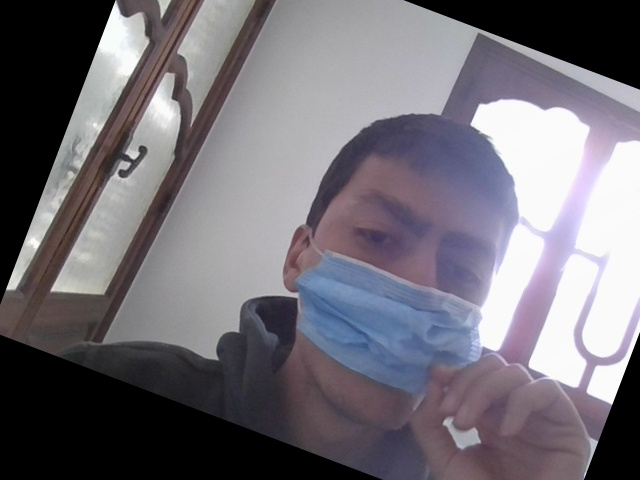mask_weared_incorrect: (301, 149, 502, 427)
